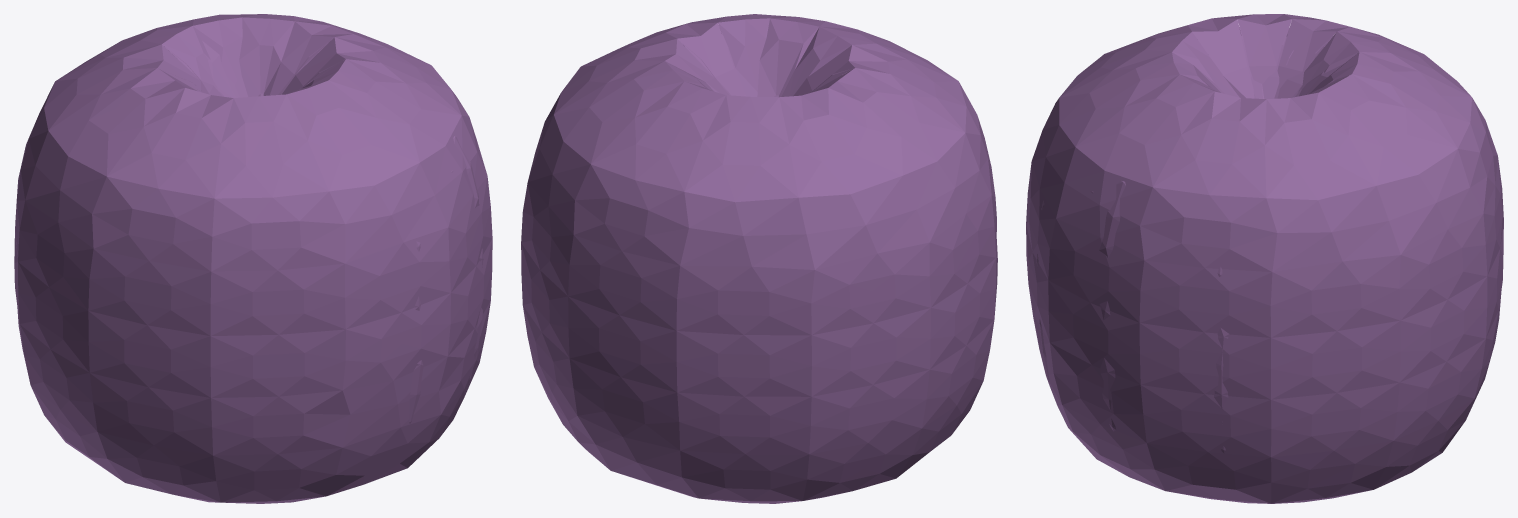
The model's file is ready.glb.
3 renders of one model, left to right at view 1: azimuth 30°, elevation 25°; view 2: azimuth 150°, elevation 25°; view 3: azimuth 270°, elevation 25°, orthographic.
Parts seen in each view (by area): view 1: Blueberry_1, Blueberry_0; view 2: Blueberry_1; view 3: Blueberry_1, Blueberry_0.
Boxes of the visible parts, x1,y1,x2,y2 form: Blueberry_1: (14, 14, 492, 503); Blueberry_0: (164, 39, 483, 423); Blueberry_1: (521, 14, 997, 503); Blueberry_1: (1026, 14, 1503, 503); Blueberry_0: (1036, 27, 1349, 453).
Bounding box in the file's own units: 0.2283 × 0.2254 × 0.2282.
